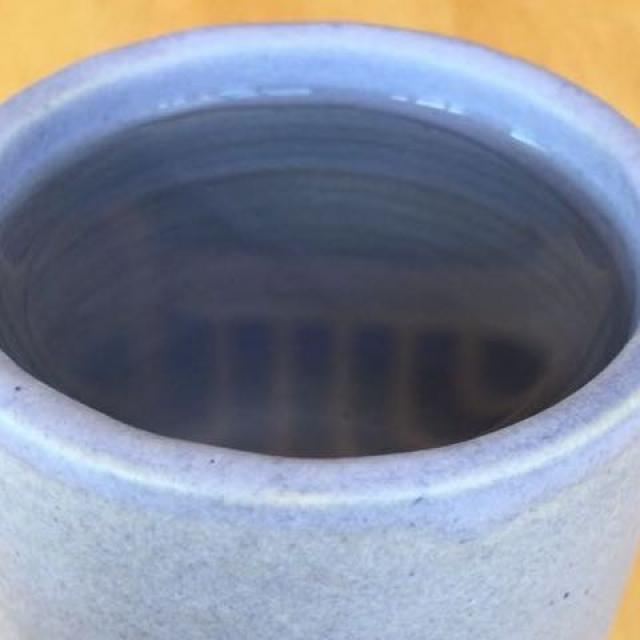water: (6, 82, 617, 475)
